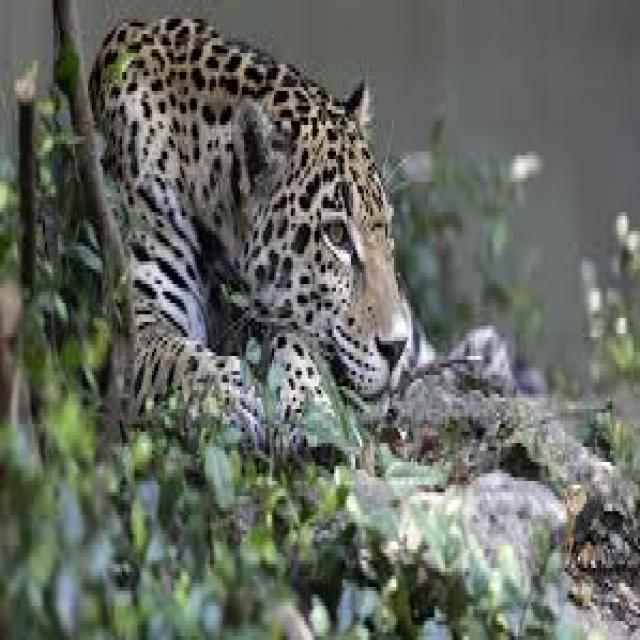Jaguar: (75, 8, 413, 450)
